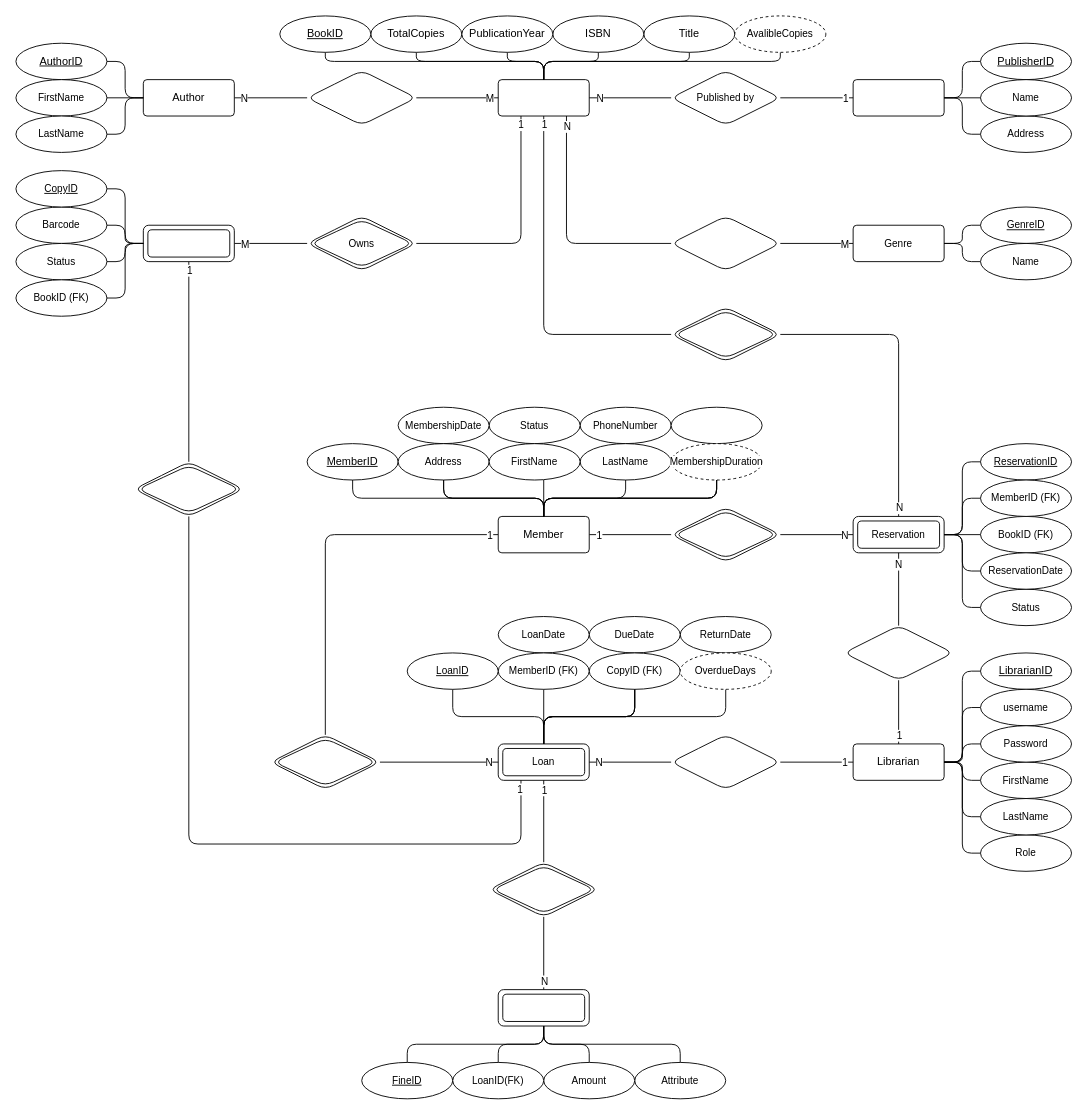
Image size: 1087x1115. Some labels were removed from this diagram. The shapes that lost their labels are listed below. From the top down, each one's centre as x and y in pixels, then its label:
point (361, 97): Written by
point (543, 97): Book
point (898, 97): Publisher
point (188, 243): BookCopy
point (725, 243): ClassifiedAs
point (725, 334): ReservesFor
point (716, 425): Email
point (188, 488): LoansFor
point (725, 534): Reserves
point (898, 652): ProcessesReservation
point (325, 761): Borrows
point (725, 761): ProcessesLoan
point (543, 889): IncurredBy
point (543, 1007): Fine
